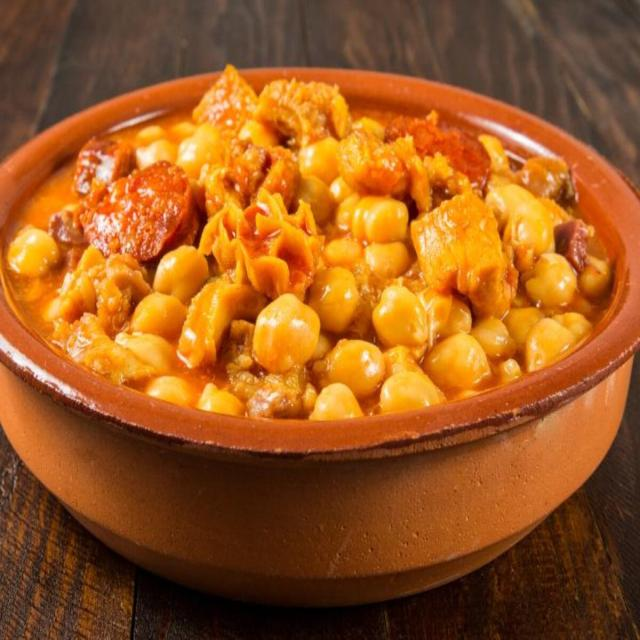garbanzos: (17, 65, 629, 434)
